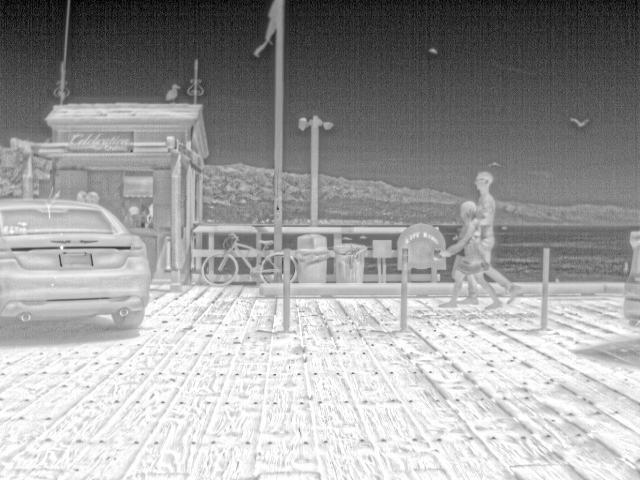car: (0, 196, 152, 333), (621, 228, 639, 330)
person: (472, 168, 524, 302), (440, 200, 504, 304), (122, 205, 143, 228)
